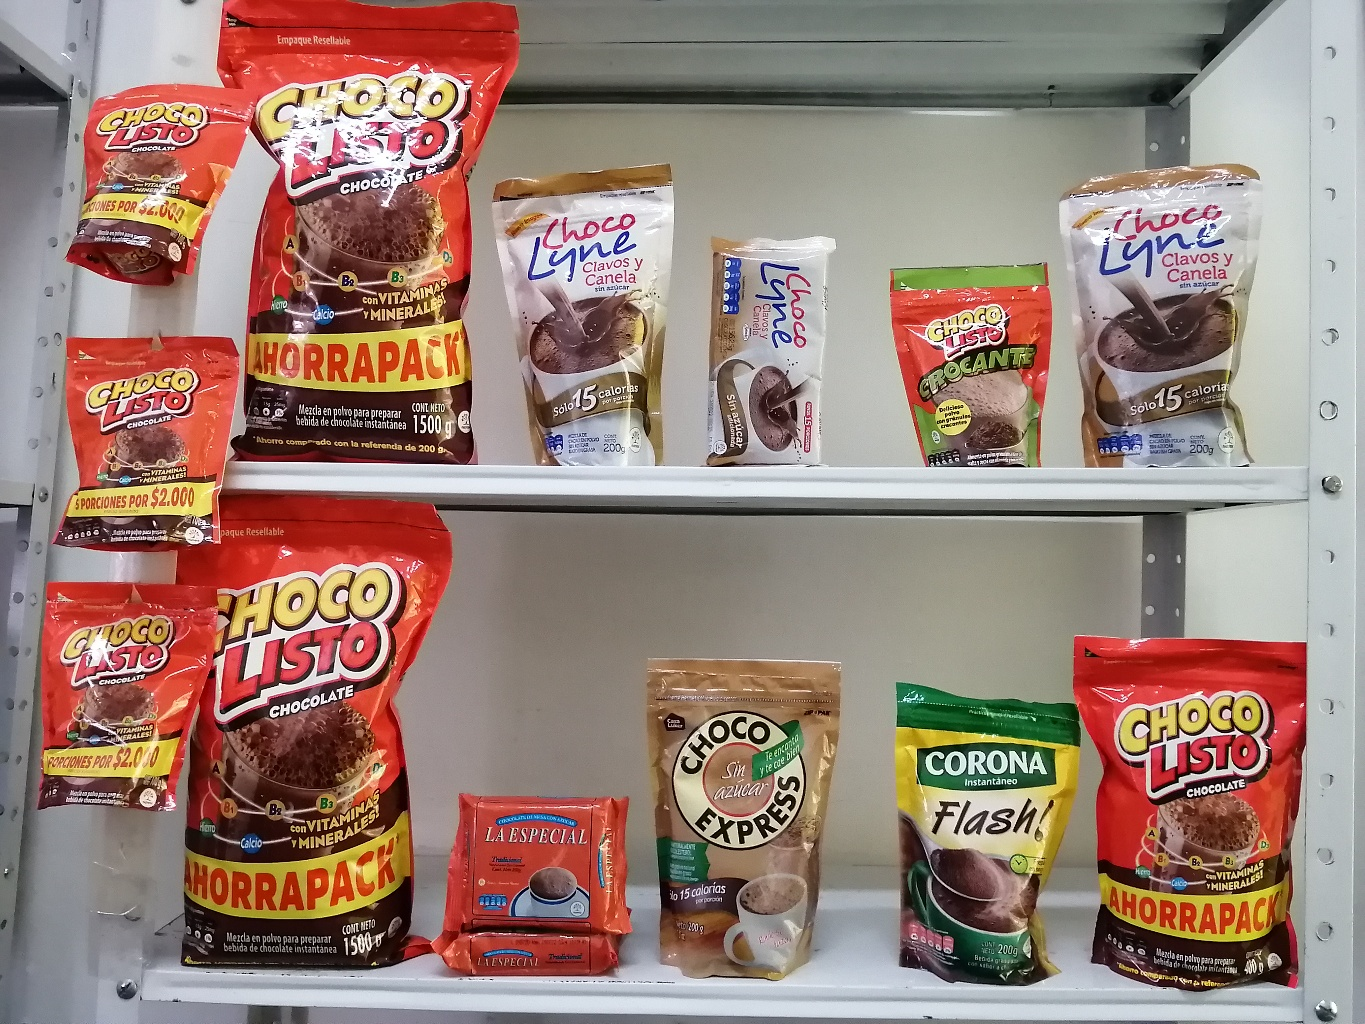COL0170102DYP10000: (878, 257, 1071, 479)
COL0170103DYP1,500: (155, 478, 458, 984)
COL0170103DYP10000: (57, 65, 264, 288)
COL0170103DYP40000: (1070, 627, 1322, 1016)
